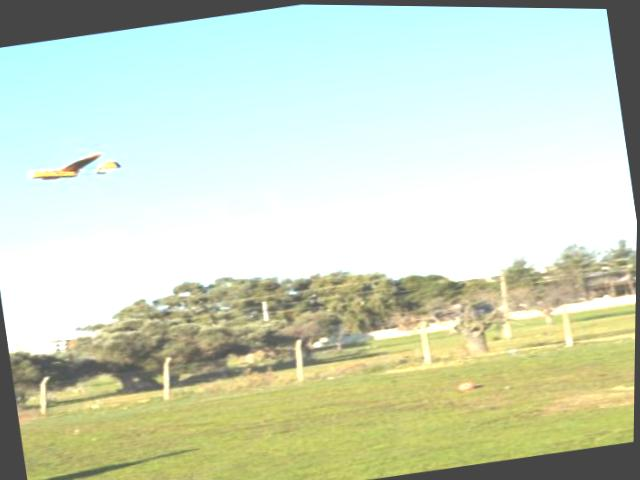iha: (17, 144, 125, 192)
